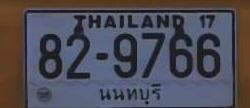2: (66, 32, 90, 78)
6: (168, 31, 192, 77), (196, 32, 220, 77)
7: (141, 32, 164, 77)
8: (38, 33, 61, 78)
9: (113, 32, 136, 77)
NBI: (94, 81, 167, 106)
